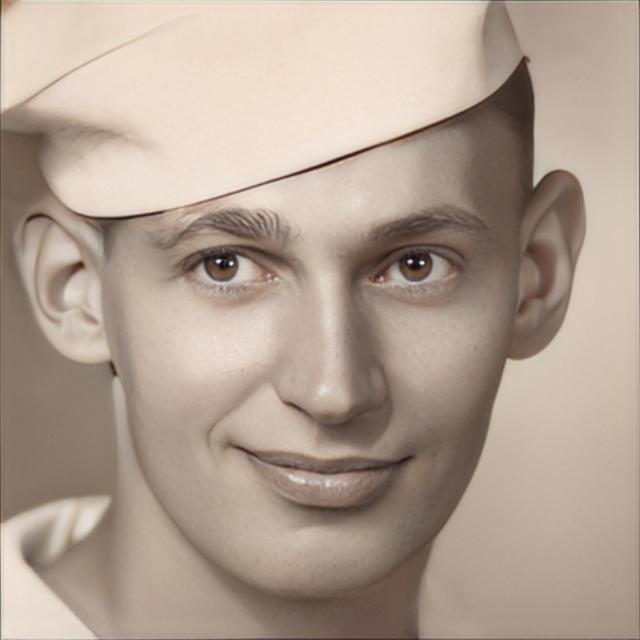content: (103, 56, 534, 604)
